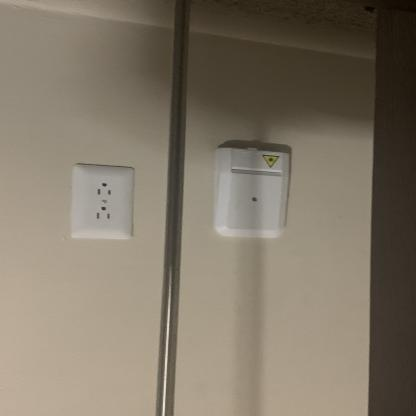OUTLET: (71, 167, 133, 238)
